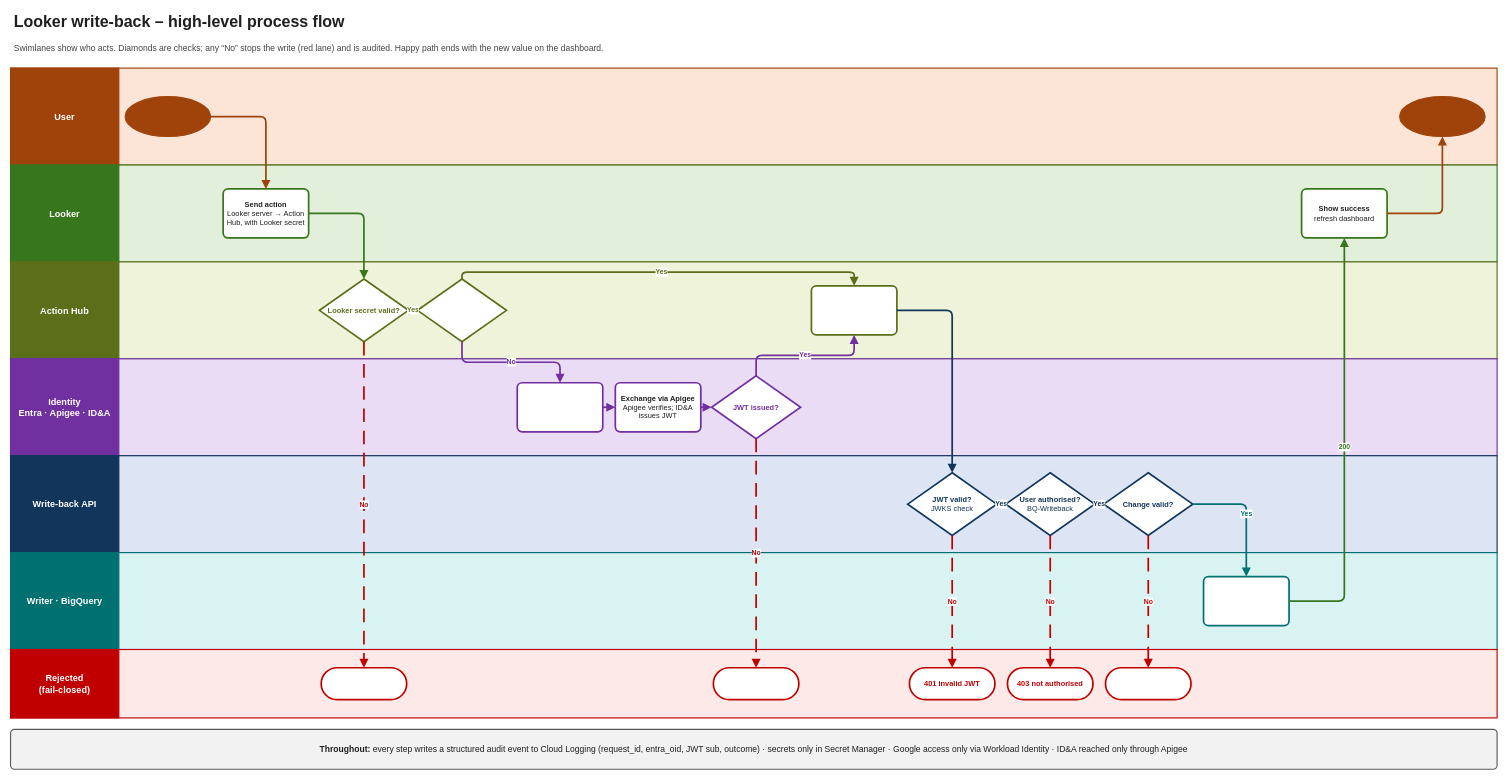
Image size: 1507x779. Some labels were removed from this diagram. The centre of each missing label's shape, as x and y in pixels:
"400 invalid change" belongs at point (1148, 683).
"401 / 503 no token" belongs at point (755, 683).
"401 not Looker" belongs at point (363, 683).
"Call Write-back API Bearer ID&A JWT (cache it)" belongs at point (853, 310).
"End: new value visible" belongs at point (1442, 116).
"Get Entra auth token client credentials, federated (no secret)" belongs at point (559, 407).
"ID&A JWT cached?" belongs at point (461, 310).
"Start: user edits a value" belongs at point (167, 116).
"Write row M2M as writer@, idempotent (request_id)" belongs at point (1246, 600).
